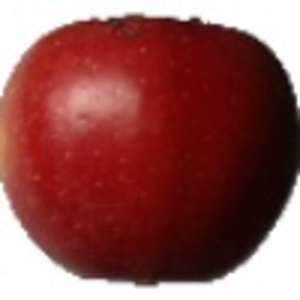maçã braeburn: (1, 9, 300, 288)
